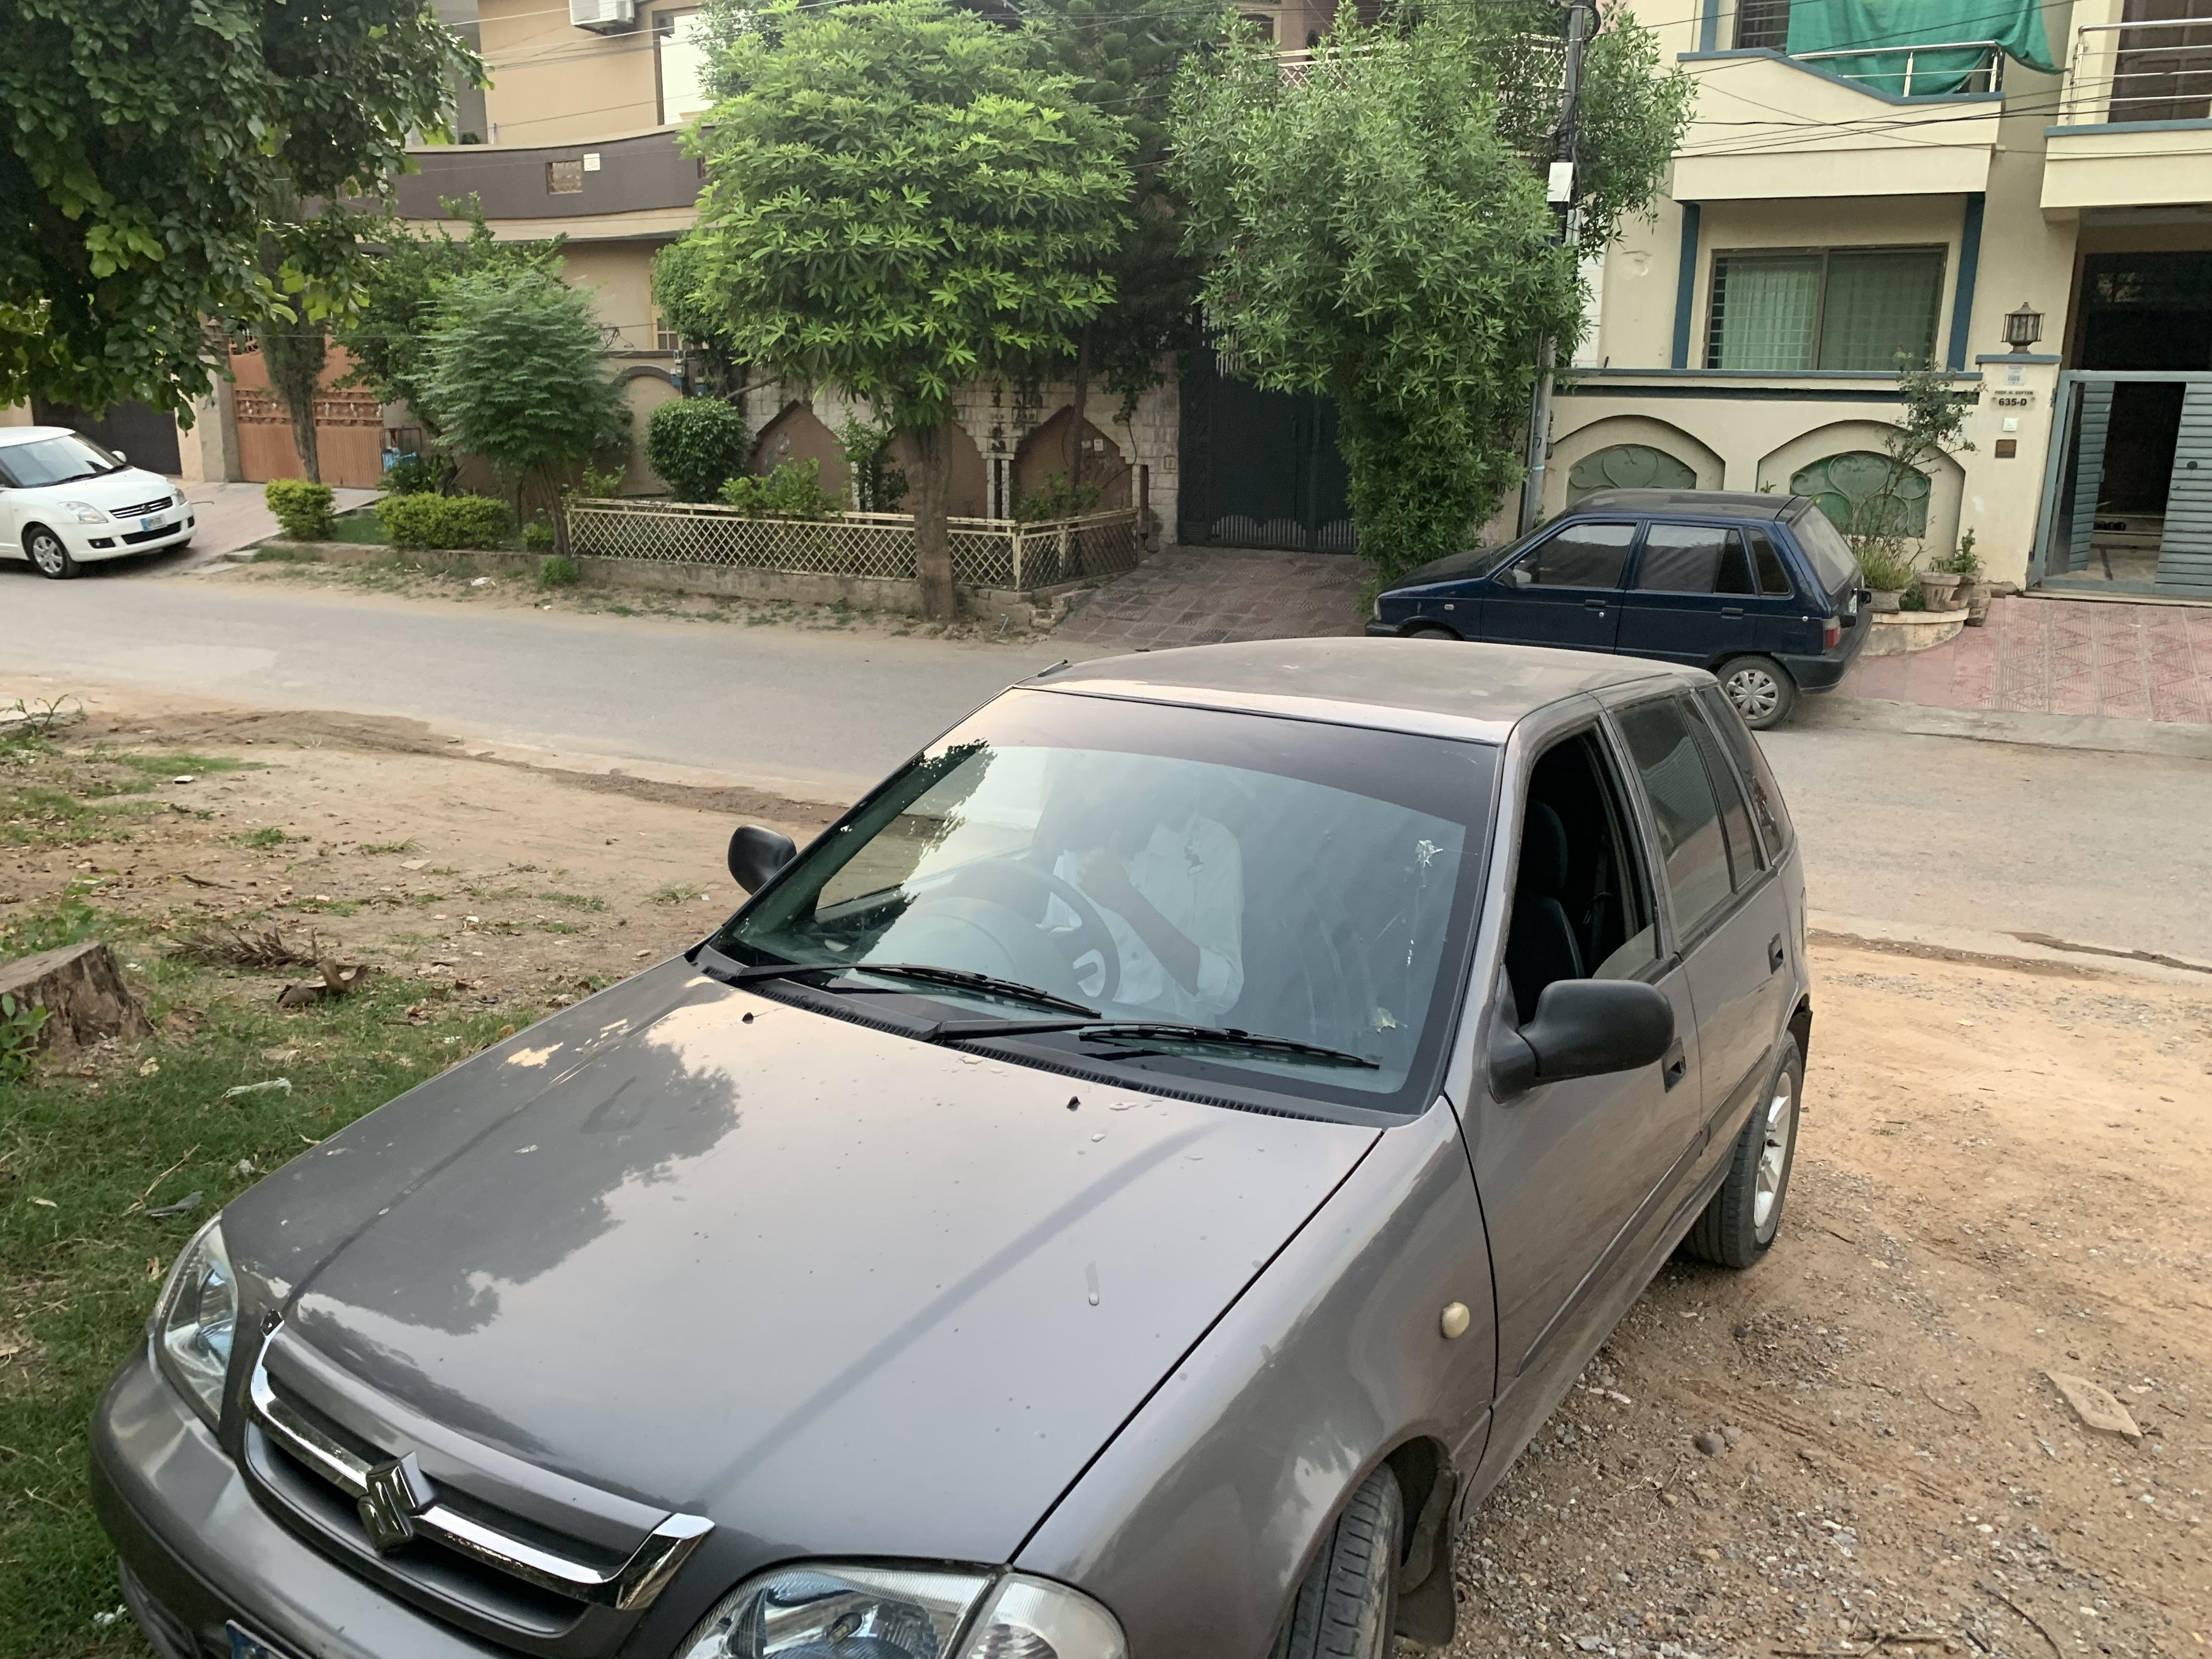windshield: (681, 674, 1526, 1152)
